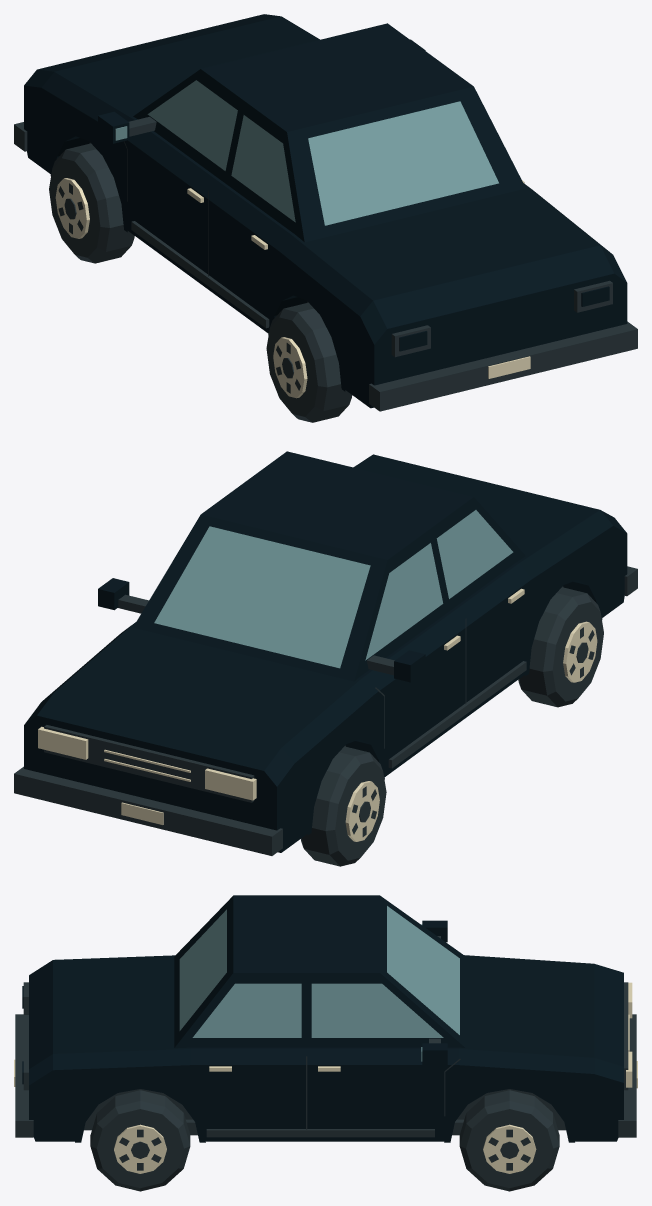
The model's file is sedandark.glb.
3 views of the same model, one above another, from view 1: azimuth 30°, elevation 25°; view 2: azimuth 150°, elevation 25°; view 3: azimuth 270°, elevation 25° (orthographic). The views are drawn at different scales.
Parts seen in each view (by area): view 1: Body_upper_facets_1, Body_shell_0, Cabin_roof_13, Rear_window_17, Rear_window_frame_15, Wheel_Rear_Left, Wheel_Front_Left, Rear_bumper_39, Cabin_side_11, Front_side_window_19, Quarter_window_18, Sill_trim_24 (+6 smaller); view 2: Body_upper_facets_1, Body_shell_0, Windshield_16, Cabin_roof_13, Windshield_frame_14, Wheel_Rear_Left, Wheel_Front_Left, Front_bumper_37, Cabin_side_11, Front_side_window_19, Front_grille_32, Quarter_window_18 (+7 smaller); view 3: Body_upper_facets_1, Body_shell_0, Cabin_roof_13, Wheel_Front_Right, Wheel_Rear_Right, Cabin_side_12, Front_side_window_21, Windshield_16, Quarter_window_20, Rear_window_17, Windshield_frame_14, Sill_trim_27 (+9 smaller).
Part boxes in pixels (<box>): Body_upper_facets_1: <box>24,14,626,344</box>; Body_shell_0: <box>24,85,627,408</box>; Cabin_roof_13: <box>201,23,473,131</box>; Rear_window_17: <box>308,101,498,225</box>; Rear_window_frame_15: <box>287,86,525,242</box>; Wheel_Rear_Left: <box>266,302,352,422</box>; Wheel_Front_Left: <box>49,143,134,263</box>; Rear_bumper_39: <box>369,321,637,411</box>; Cabin_side_11: <box>133,69,304,241</box>; Front_side_window_19: <box>147,80,237,170</box>; Quarter_window_18: <box>231,115,295,222</box>; Sill_trim_24: <box>131,221,269,328</box>; Body_upper_facets_1: <box>24,454,626,786</box>; Body_shell_0: <box>24,526,627,852</box>; Windshield_16: <box>154,526,370,668</box>; Cabin_roof_13: <box>201,451,473,559</box>; Windshield_frame_14: <box>133,514,387,681</box>; Wheel_Rear_Left: <box>518,587,603,707</box>; Wheel_Front_Left: <box>301,746,386,866</box>; Front_bumper_37: <box>14,766,282,855</box>; Cabin_side_11: <box>354,497,525,680</box>; Front_side_window_19: <box>365,543,443,660</box>; Front_grille_32: <box>44,725,254,802</box>; Quarter_window_18: <box>436,510,513,598</box>; Body_upper_facets_1: <box>29,955,623,1085</box>; Body_shell_0: <box>29,1065,623,1141</box>; Cabin_roof_13: <box>233,895,379,972</box>; Wheel_Front_Right: <box>459,1090,559,1191</box>; Wheel_Rear_Right: <box>90,1090,190,1191</box>; Cabin_side_12: <box>174,973,464,1048</box>; Front_side_window_21: <box>311,983,443,1037</box>; Windshield_16: <box>387,906,459,1034</box>; Quarter_window_20: <box>192,983,301,1037</box>; Rear_window_17: <box>179,909,226,1030</box>; Windshield_frame_14: <box>380,895,465,1047</box>; Sill_trim_27: <box>206,1129,434,1137</box>.
Size of the model in its own units: 2.17 by 1.57 by 4.43.
